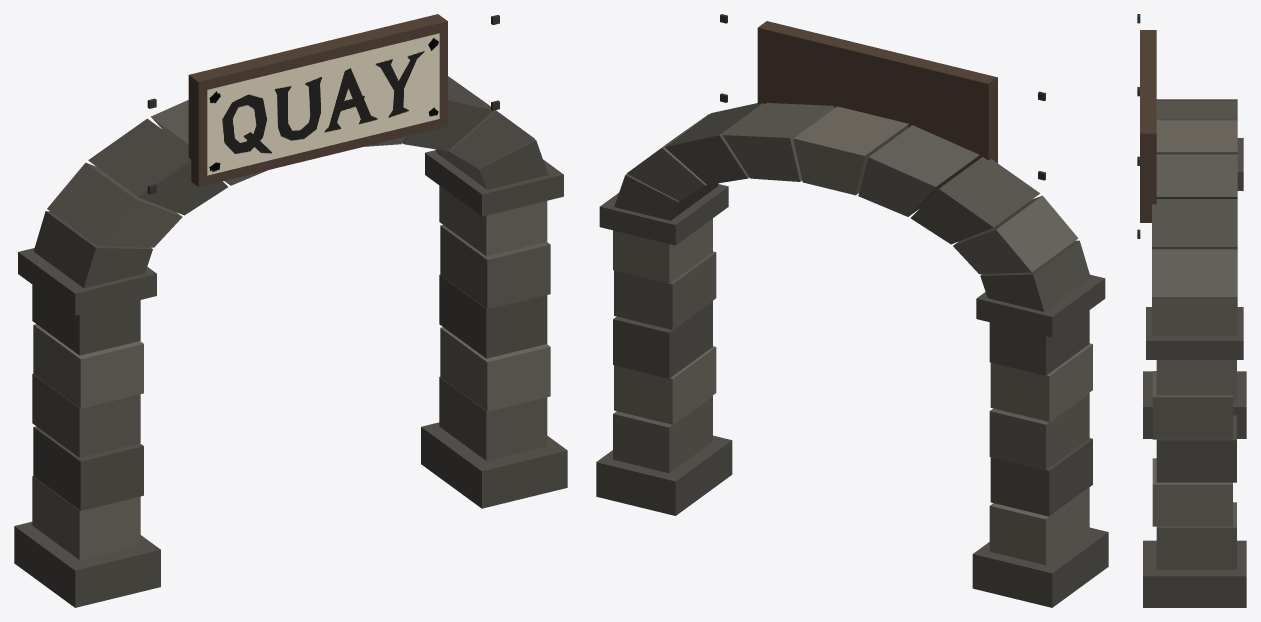
Rendered from QuayArchway.glb.
3 renders of one model, left to right at view 1: azimuth 30°, elevation 25°; view 2: azimuth 150°, elevation 25°; view 3: azimuth 270°, elevation 25°, orthographic. The views are drawn at different scales.
Visible parts, largest first — view 1: Sign face · Paint here, Sign backing, Pier foot, Pier foot.001, Arch stone.006, Arch stone.005, Stone pier course.006, Stone pier course.003, Stone pier course.001, Stone pier course.008, Stone pier course.005, Stone pier course.007 (+11 smaller); view 2: Sign backing, Arch stone.004, Pier foot, Keystone, Pier foot.001, Arch stone.005, Arch stone.006, Arch stone.003, Stone pier course, Stone pier course.002, Stone pier course.003, Stone pier course.006 (+12 smaller); view 3: Pier foot.001, Arch stone.002, Arch stone.001, Stone pier course.006, Stone pier course.008, Arch stone.003, Stone pier course.005, Stone pier course.007, Arch stone, Sign backing, Stone pier course.009, Keystone (+4 smaller).
Boxes of the visible parts, box(x1,y1,x2,y2) form: Sign face · Paint here: box(207, 33, 439, 175); Sign backing: box(188, 14, 447, 186); Pier foot: box(14, 521, 160, 607); Pier foot.001: box(421, 422, 567, 508); Arch stone.006: box(47, 162, 182, 247); Arch stone.005: box(88, 118, 227, 215); Stone pier course.006: box(440, 327, 550, 411); Stone pier course.003: box(33, 324, 143, 408); Stone pier course.001: box(33, 426, 143, 510); Stone pier course.008: box(440, 225, 550, 309); Stone pier course.005: box(439, 377, 547, 460); Stone pier course.007: box(439, 274, 547, 358); Sign backing: box(757, 21, 997, 165); Arch stone.004: box(858, 125, 979, 216); Pier foot: box(972, 527, 1108, 607); Keystone: box(793, 106, 908, 195); Pier foot.001: box(596, 435, 732, 515); Arch stone.005: box(910, 157, 1039, 244); Arch stone.006: box(953, 195, 1078, 274); Arch stone.003: box(722, 103, 834, 181); Stone pier course: box(989, 487, 1089, 565); Stone pier course.002: box(989, 393, 1089, 470); Stone pier course.003: box(990, 343, 1092, 421); Stone pier course.006: box(614, 346, 716, 424); Pier foot.001: box(1143, 540, 1246, 607); Arch stone.002: box(1152, 199, 1237, 249); Arch stone.001: box(1152, 249, 1237, 296); Stone pier course.006: box(1152, 458, 1232, 526); Stone pier course.008: box(1152, 371, 1232, 439); Arch stone.003: box(1156, 154, 1237, 198); Stone pier course.005: box(1156, 502, 1236, 569); Stone pier course.007: box(1156, 415, 1236, 482); Arch stone: box(1152, 297, 1237, 335); Sign backing: box(1140, 30, 1156, 222); Stone pier course.009: box(1156, 360, 1236, 395); Keystone: box(1156, 120, 1237, 154).
Size of the model in its own units: 3.73 by 3.6 by 0.8435.
6 materials, 1 textured.
